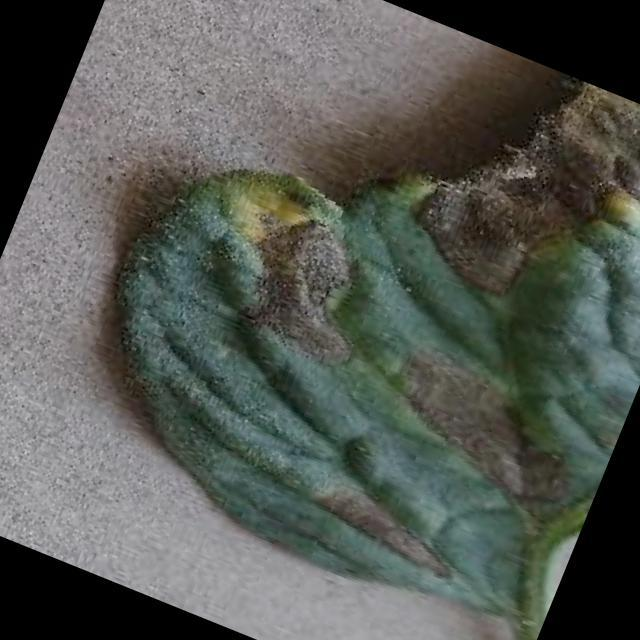Tomato Early blight leaf: (43, 0, 640, 640)
